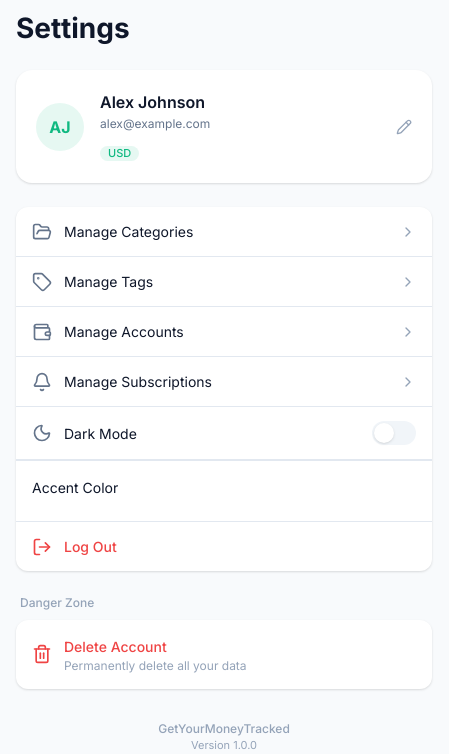
Scenario: SettingsPage › shows edit profile form when profile card is clicked
The width and height of the screenshot is (449, 754).
Click the button with test id "user-profile-card" at (60, 127), box [16,70,432,183]
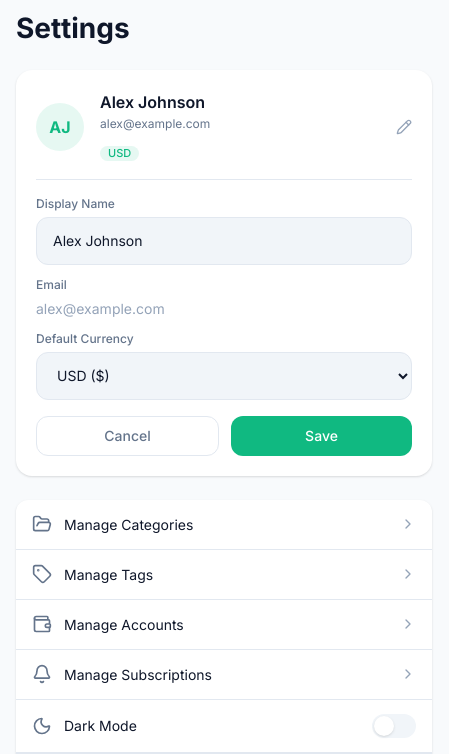
Check: the element with test id "edit-profile-form" is shown, box [36,179,412,456]
